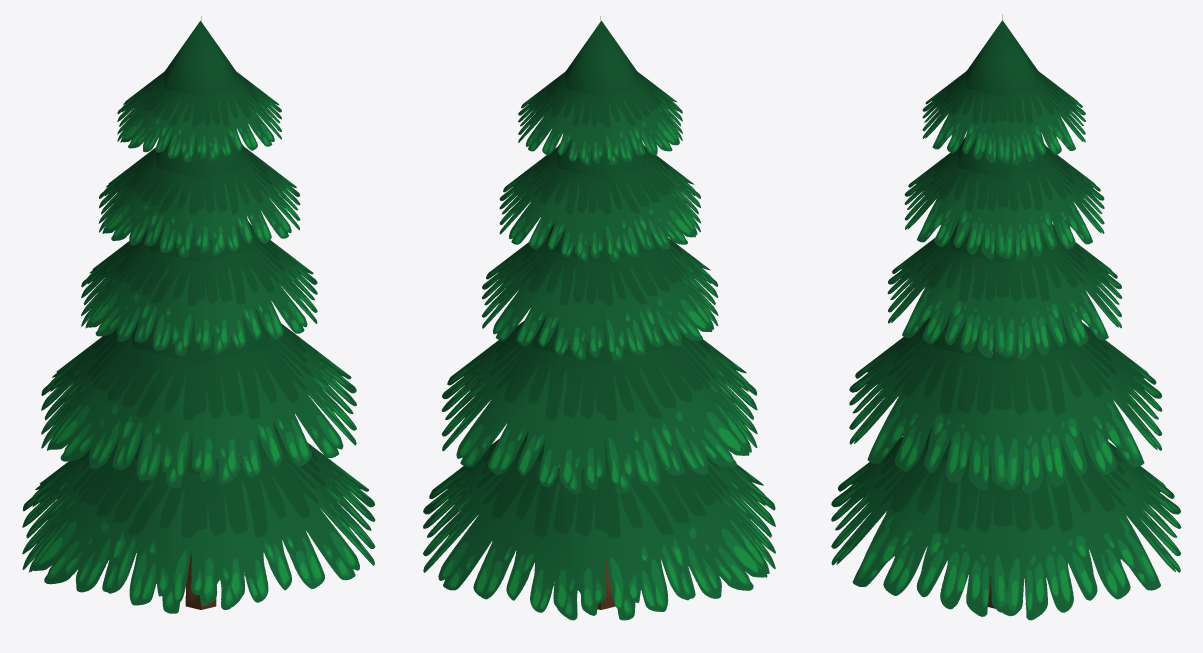
File: Tree12B.glb
The picture shows the model from 3 angles, left to right: view 1: azimuth 30°, elevation 25°; view 2: azimuth 150°, elevation 25°; view 3: azimuth 270°, elevation 25°; orthographic projection.
Parts seen in each view (by area): view 1: Tree_07_TallPine; view 2: Tree_07_TallPine; view 3: Tree_07_TallPine.
Part boxes in pixels (x1,y1,x2,y2): Tree_07_TallPine: (22,16,375,613); Tree_07_TallPine: (423,16,775,620); Tree_07_TallPine: (831,14,1181,620).
Size of the model in its own units: 72.87 by 110 by 63.11.
1 material, 1 textured.
